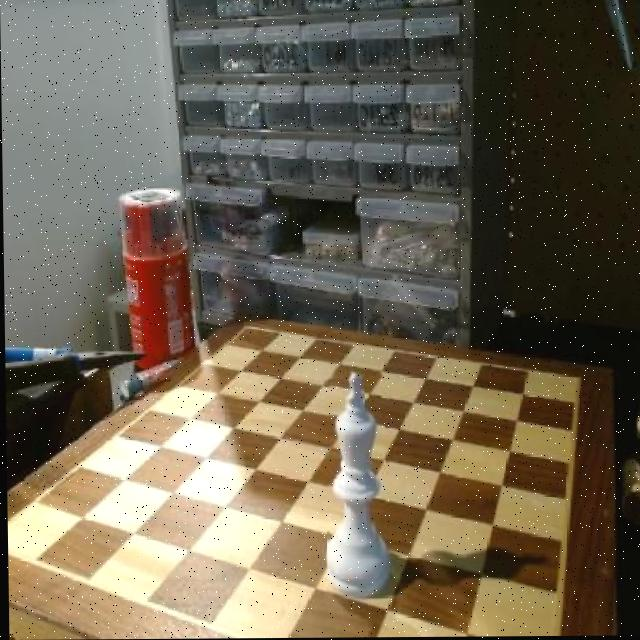white-bishop: (324, 375, 389, 600)
